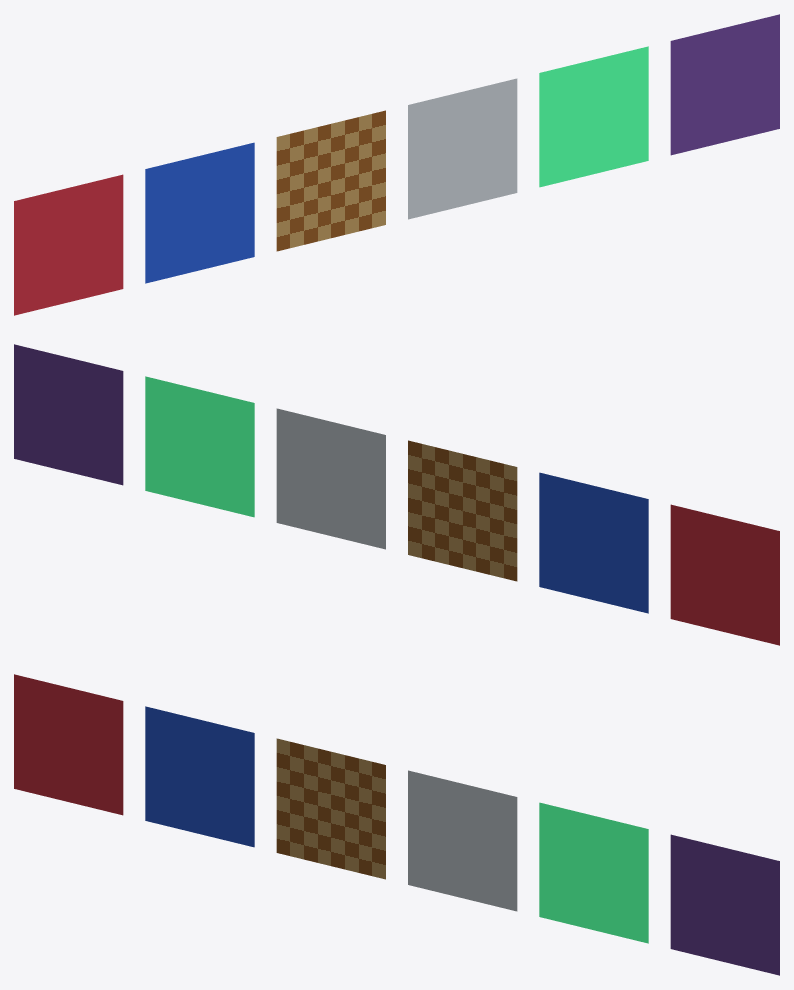
File: cards.gltf
3 views of the same model, one above another, from view 1: azimuth 30°, elevation 25°; view 2: azimuth 150°, elevation 25°; view 3: azimuth 330°, elevation 25° (orthographic).
Bounding box in the file's own units: 14 × 2 × 0.
6 materials, 2 textured.
